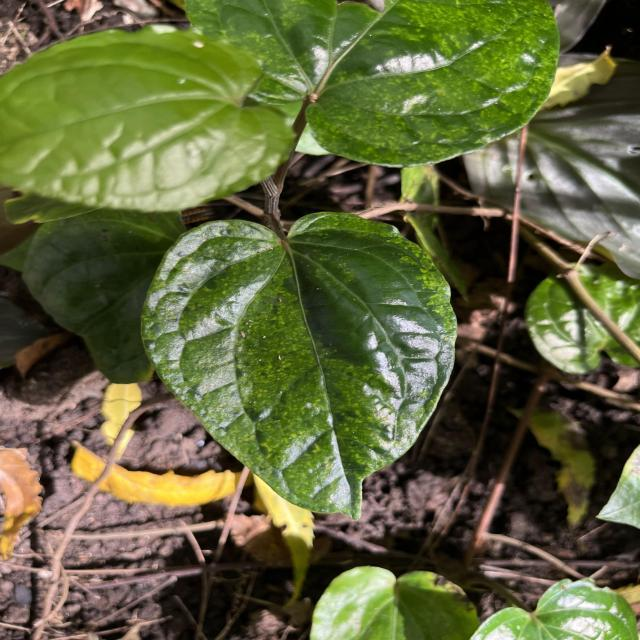Piper betle: (135, 206, 462, 524)
